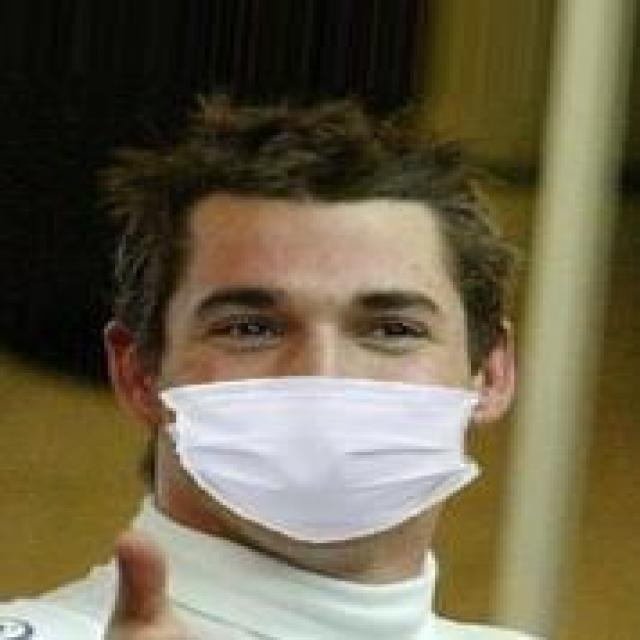mask: (122, 85, 547, 552)
